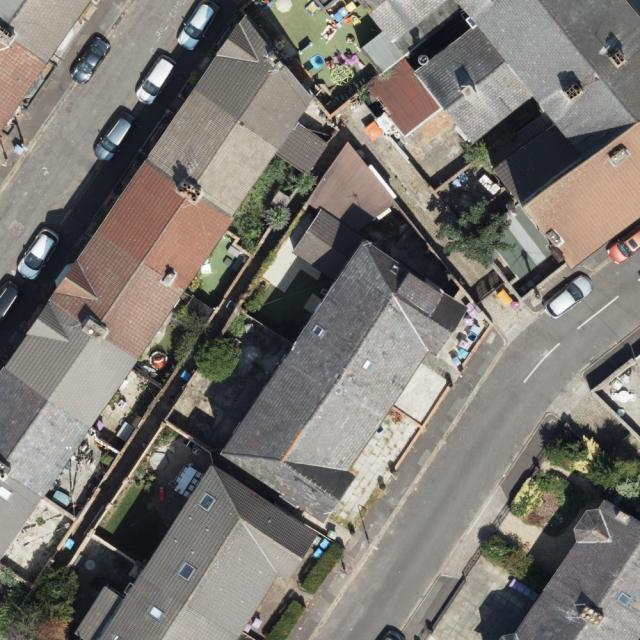roof: (0, 11, 329, 567), (221, 202, 469, 522), (356, 0, 640, 268), (73, 463, 322, 640), (514, 498, 640, 640), (0, 0, 97, 142)
skylight: (193, 491, 219, 517), (146, 599, 170, 625), (176, 560, 199, 586), (614, 585, 634, 610), (359, 355, 378, 377), (312, 320, 329, 342)
